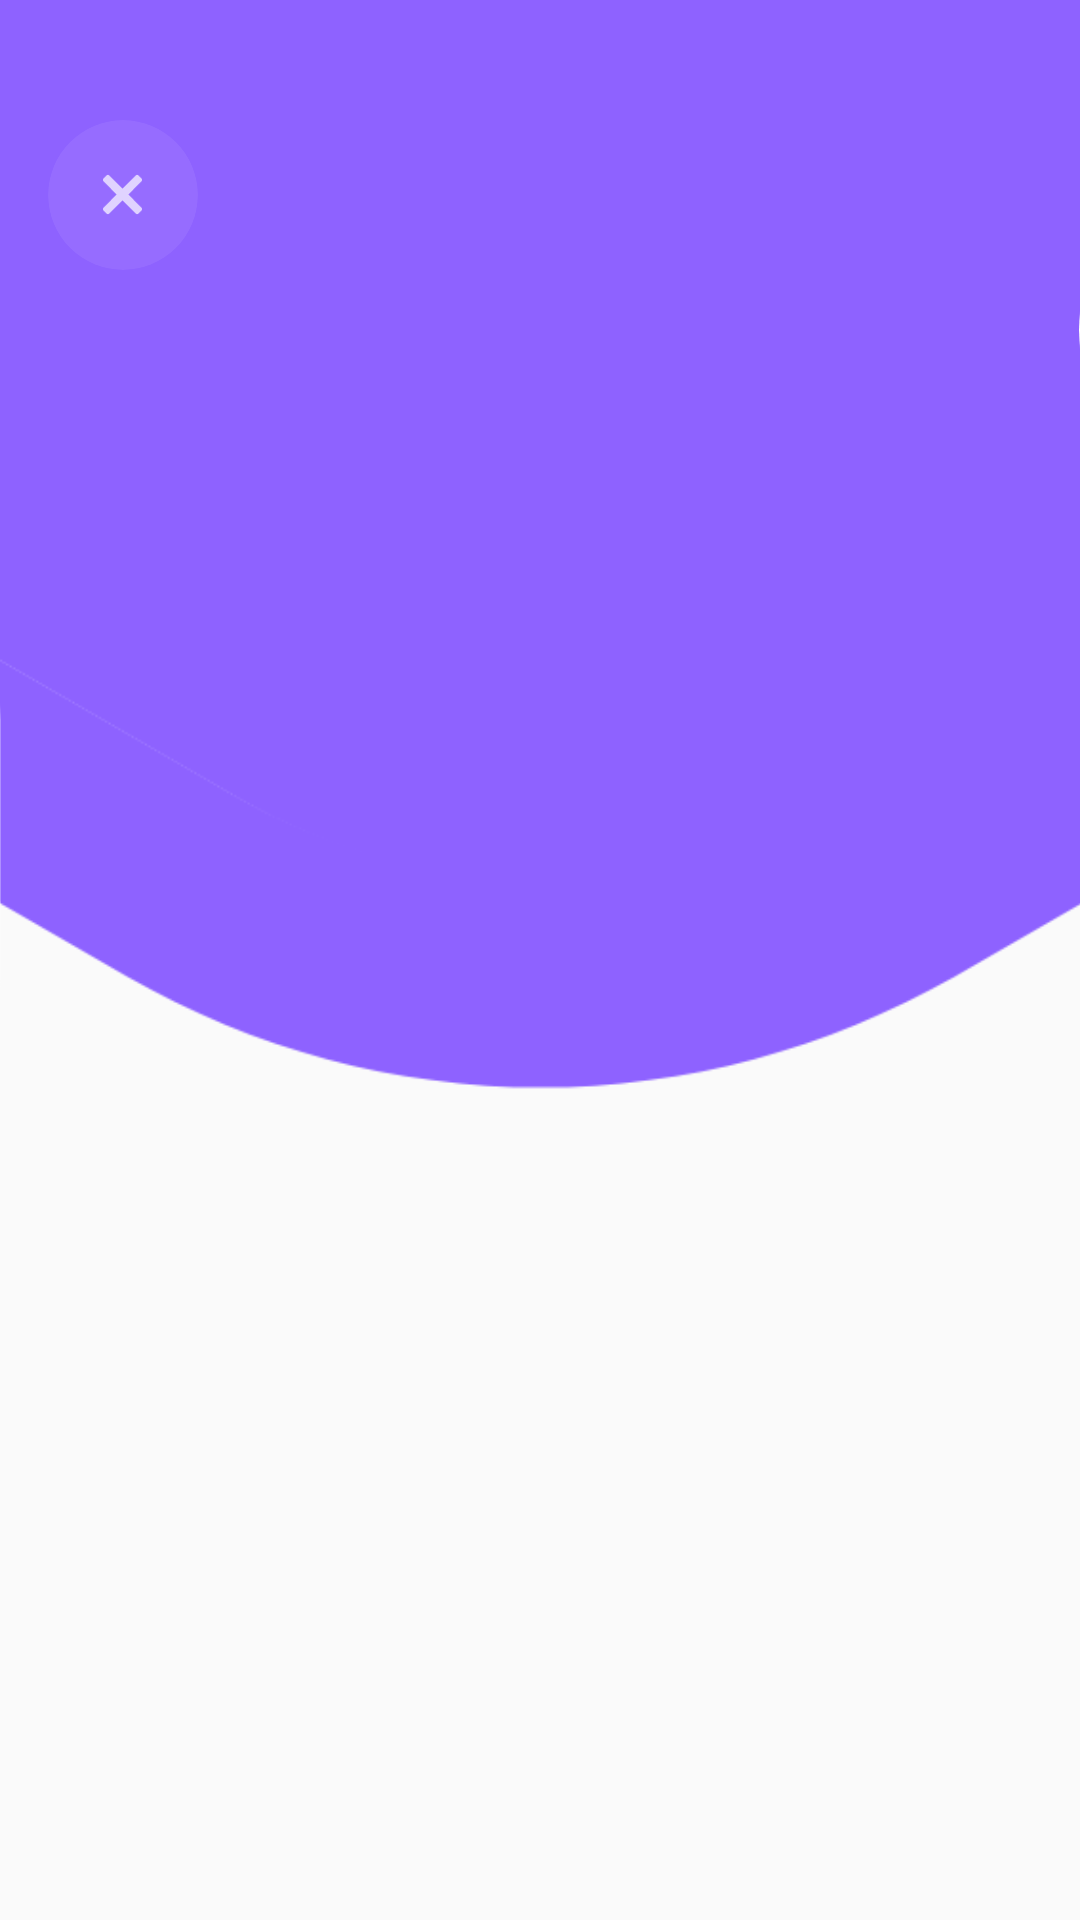

Named icons in this screenshot (1080 × 1920) and their centers, point (x, y):
times: point (122, 194)
